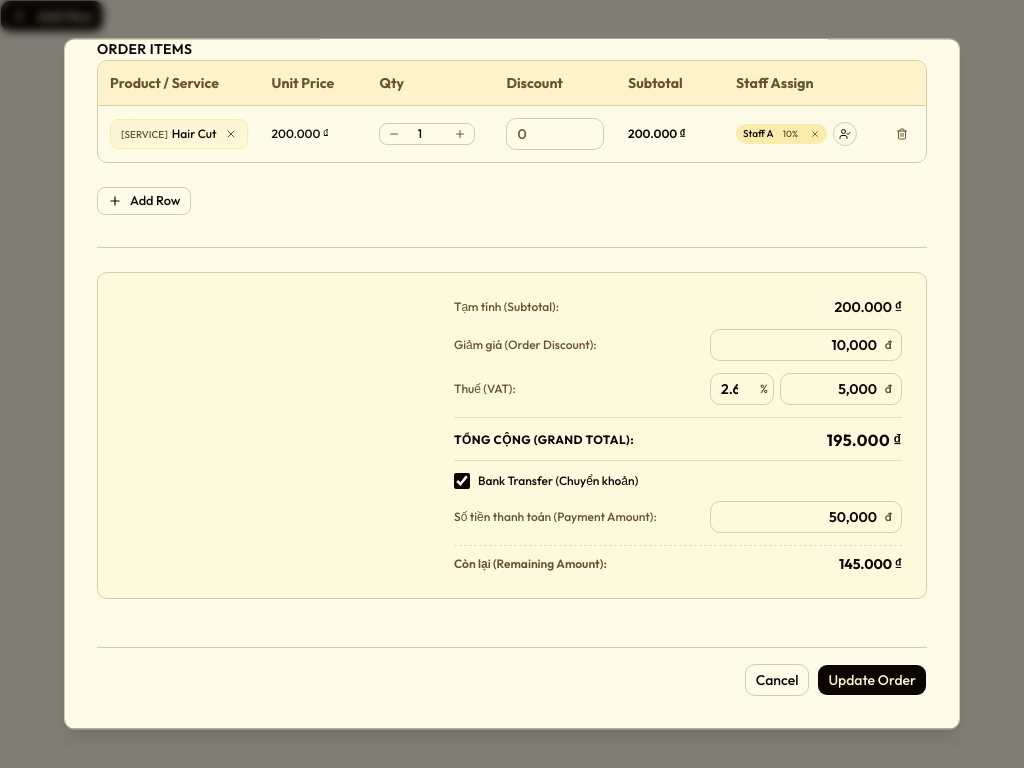
OrderFormDialog - Edit Mode › recalculates remaining amount dynamically and formats input with thousand separators
(page scrolled)
Step 1. Replace the text in the field labelled "Số tiền thanh toán (Payment Amount):" with "195000" → (806, 517), box [710, 501, 902, 533]
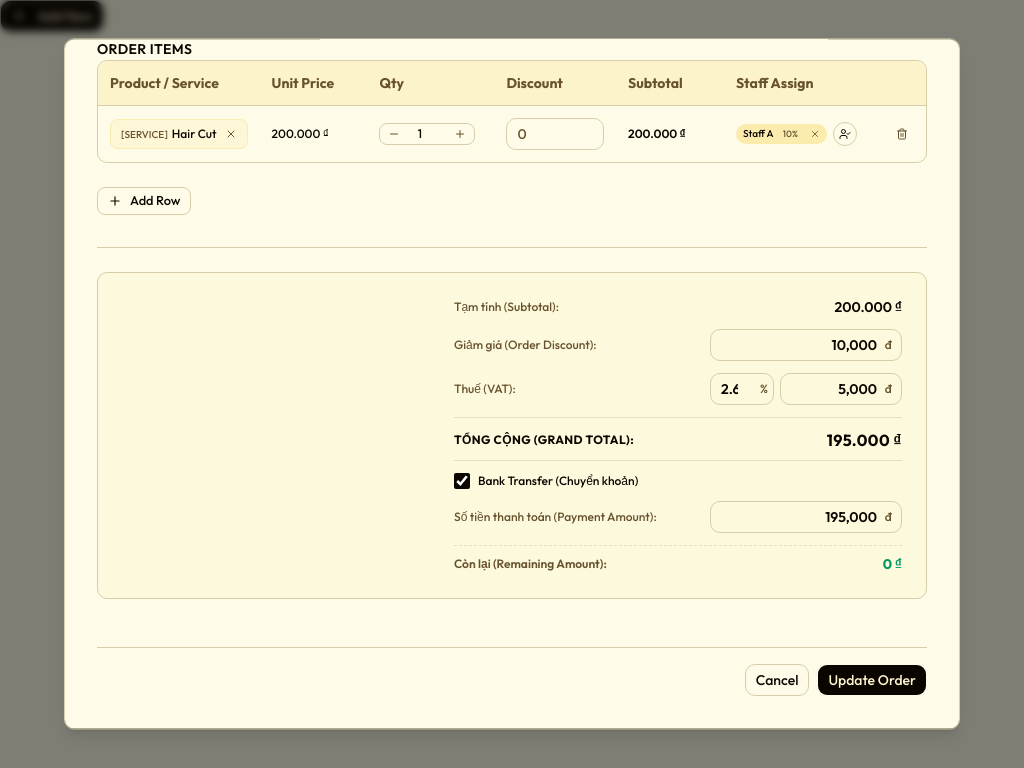
Expected: the text with test id "remaining-amount" shows "0", [883, 555, 902, 573]
Expected: the field labelled "Số tiền thanh toán (Payment Amount):" holds "195,000", [710, 501, 902, 533]
